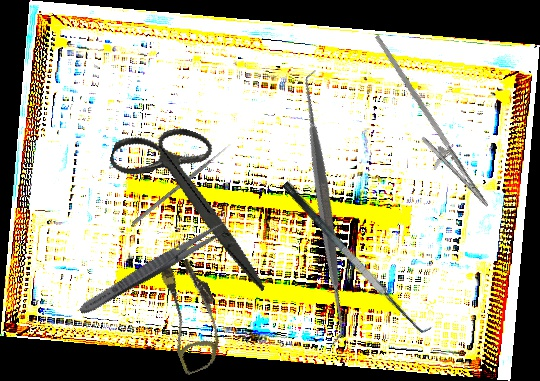Cannula: (147, 255, 236, 376)
Dressing Forceps: (76, 215, 232, 320)
Iris Scissors: (85, 108, 305, 292)
Needle Holder: (343, 33, 509, 219)
Pusher: (131, 142, 233, 226)
Spatula Surgical: (185, 68, 463, 347), (281, 169, 436, 342)
